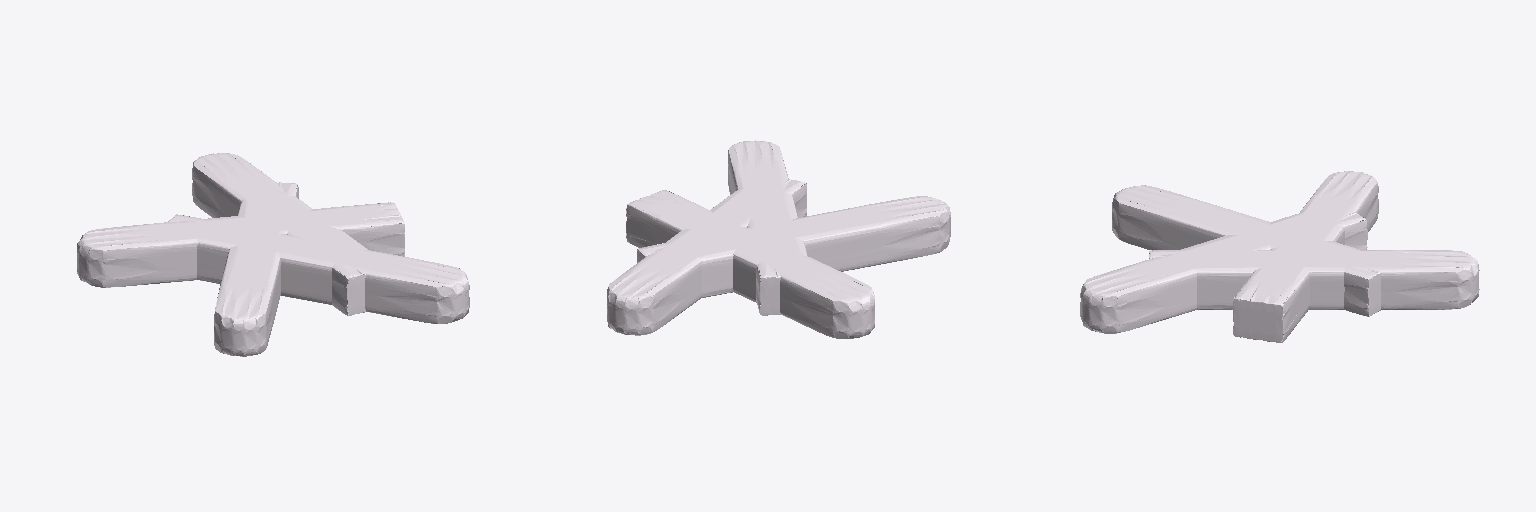
The model's file is furniture.obj.
3 views of the same model, side by side, from view 1: azimuth 30°, elevation 25°; view 2: azimuth 150°, elevation 25°; view 3: azimuth 270°, elevation 25° (orthographic).
Visible parts, largest first — view 1: Box11, Box12, Box09, Box13; view 2: Box12, Box13, Box09, Box11; view 3: Box09, Box11, Box12, Box13.
Boxes of the visible parts, x1,y1,x2,y2 form: Box11: [168, 214, 469, 323]; Box12: [77, 202, 404, 287]; Box09: [192, 153, 367, 315]; Box13: [214, 182, 298, 356]; Box12: [626, 190, 874, 338]; Box13: [637, 196, 950, 297]; Box09: [607, 178, 806, 335]; Box11: [728, 140, 807, 315]; Box09: [1149, 250, 1479, 309]; Box11: [1080, 212, 1367, 333]; Box12: [1233, 171, 1378, 342]; Box13: [1112, 185, 1380, 316].
Size of the model in its own units: 117 by 16.05 by 144.